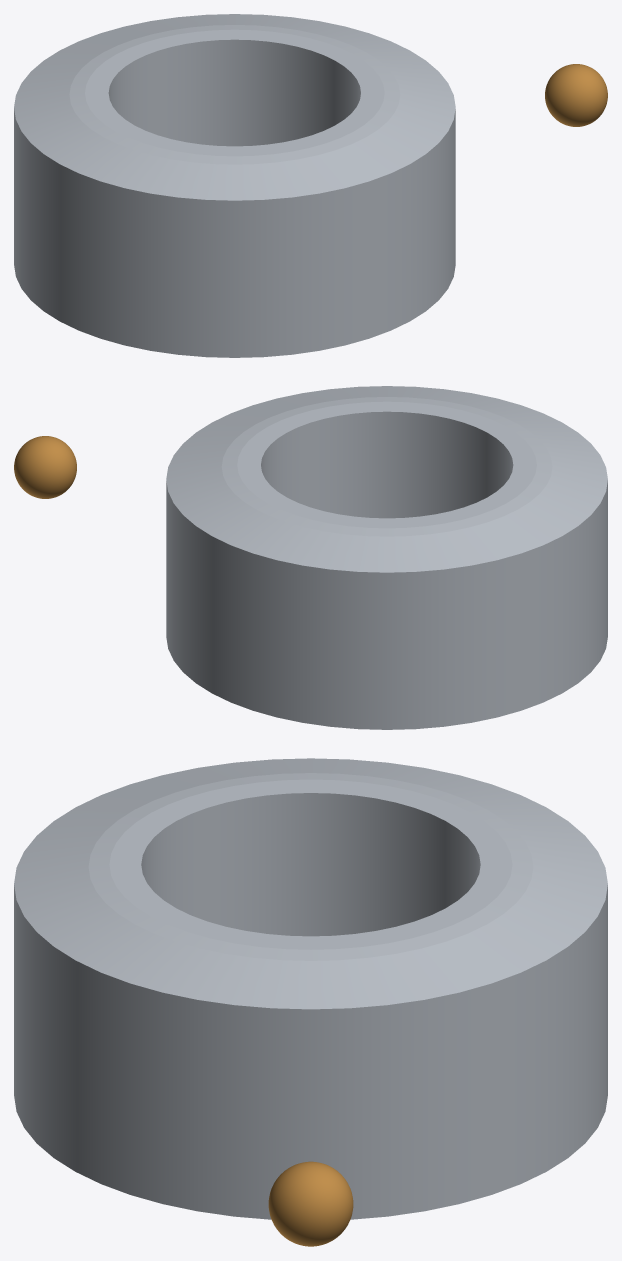
Rendered from shallow-after.glb.
3 views of the same model, one above another, from view 1: azimuth 30°, elevation 25°; view 2: azimuth 150°, elevation 25°; view 3: azimuth 270°, elevation 25° (orthographic). The views are drawn at different scales.
Visible parts, largest first — view 1: bushing, preserved; view 2: bushing, preserved; view 3: bushing, preserved.
Boxes of the visible parts, x1=… form: bushing: x1=14, y1=14, x2=455, y2=357; preserved: x1=545, y1=64, x2=607, y2=126; bushing: x1=166, y1=386, x2=607, y2=729; preserved: x1=14, y1=436, x2=76, y2=498; bushing: x1=14, y1=758, x2=607, y2=1219; preserved: x1=268, y1=1161, x2=353, y2=1246.
Bounding box in the file's own units: 0.041 × 0.012 × 0.028.
